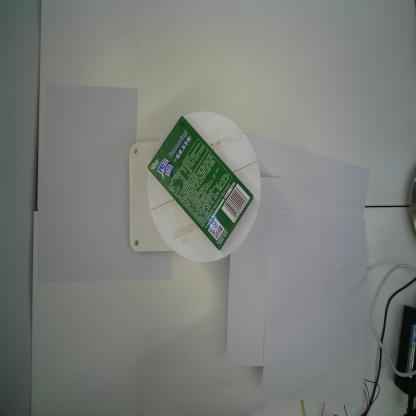Dessert: (146, 113, 257, 252)
